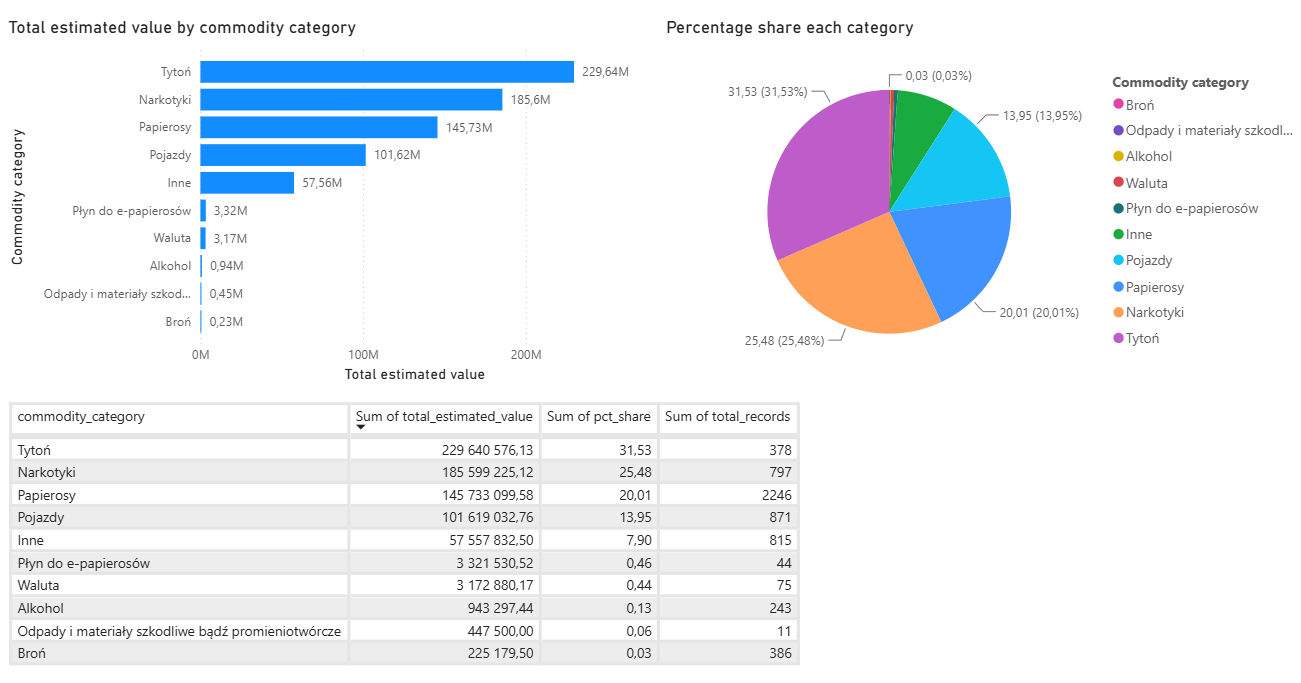

The page's visual inventory and layout, read from the dashboard file:
{"tool":"powerbi","page":{"name":"REQ4 Total Estimated Value by Category","canvas":[1280,720],"ordinal":11},"visuals":[{"type":"clusteredBarChart","title":"Total estimated value by commodity category","fields":{"Category":["highest_value_by_category.commodity_category"],"Y":["Sum(highest_value_by_category.total_estimated_value)"]},"box":[9.7,42.8,630.3,359.9],"z":0},{"type":"tableEx","fields":{"Values":["highest_value_by_category.commodity_category","Sum(highest_value_by_category.total_estimated_value)","Sum(highest_value_by_category.pct_share)","Sum(highest_value_by_category.total_records)"]},"box":[9.7,412.4,787.8,282.1],"z":1000},{"type":"pieChart","title":"Percentage share each category","fields":{"Category":["highest_value_by_category.commodity_category"],"Y":["Sum(highest_value_by_category.pct_share)"]},"box":[650,42.8,630,360],"z":2000}]}

Visuals, with their boxes on the page's 1280x720 design canvas (x1, y1, x2, y2). These are canvas units, not pixel positions in the 1301x683 screenshot, which may show the page scaled, cropped or inside an application window:
"Total estimated value by commodity category" clusteredBarChart: {"left": 10, "top": 43, "right": 640, "bottom": 403}
tableEx - highest_value_by_category.commodity_category x Sum(highest_value_by_category.total_estimated_value): {"left": 10, "top": 412, "right": 798, "bottom": 694}
"Percentage share each category" pieChart: {"left": 650, "top": 43, "right": 1280, "bottom": 403}
